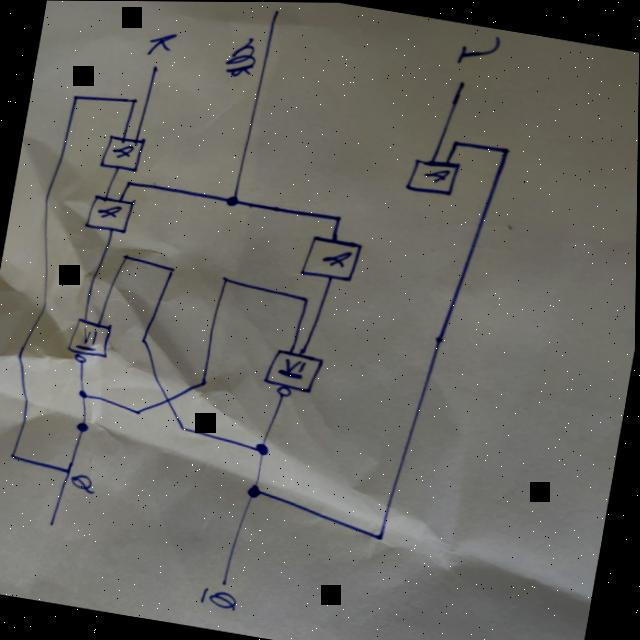crossover: (159, 391, 177, 405)
junction: (241, 477, 270, 503), (251, 438, 273, 457), (73, 417, 93, 434), (223, 192, 241, 206), (371, 528, 389, 542), (60, 461, 76, 475), (75, 386, 92, 399), (298, 292, 314, 304), (497, 143, 512, 155), (131, 405, 146, 417), (126, 93, 141, 105), (7, 448, 22, 460), (68, 90, 83, 102), (330, 211, 345, 223), (197, 376, 212, 388), (165, 262, 178, 275), (448, 135, 461, 147), (219, 272, 232, 284), (177, 421, 190, 433), (138, 334, 151, 344), (124, 177, 135, 186), (120, 250, 131, 259)
terminal: (453, 74, 471, 91), (266, 2, 284, 18), (217, 573, 235, 587), (46, 514, 60, 528), (149, 61, 162, 73)
text: (222, 31, 261, 78), (456, 31, 500, 67), (143, 25, 180, 59), (197, 584, 243, 611), (68, 469, 99, 494)
